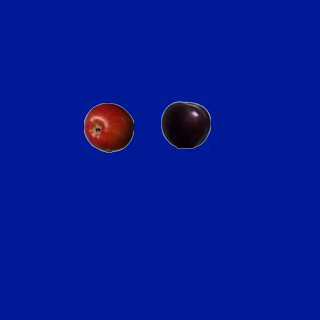Apple Braeburn: (83, 102, 133, 152)
Cherry Wax Black: (160, 99, 210, 149)
